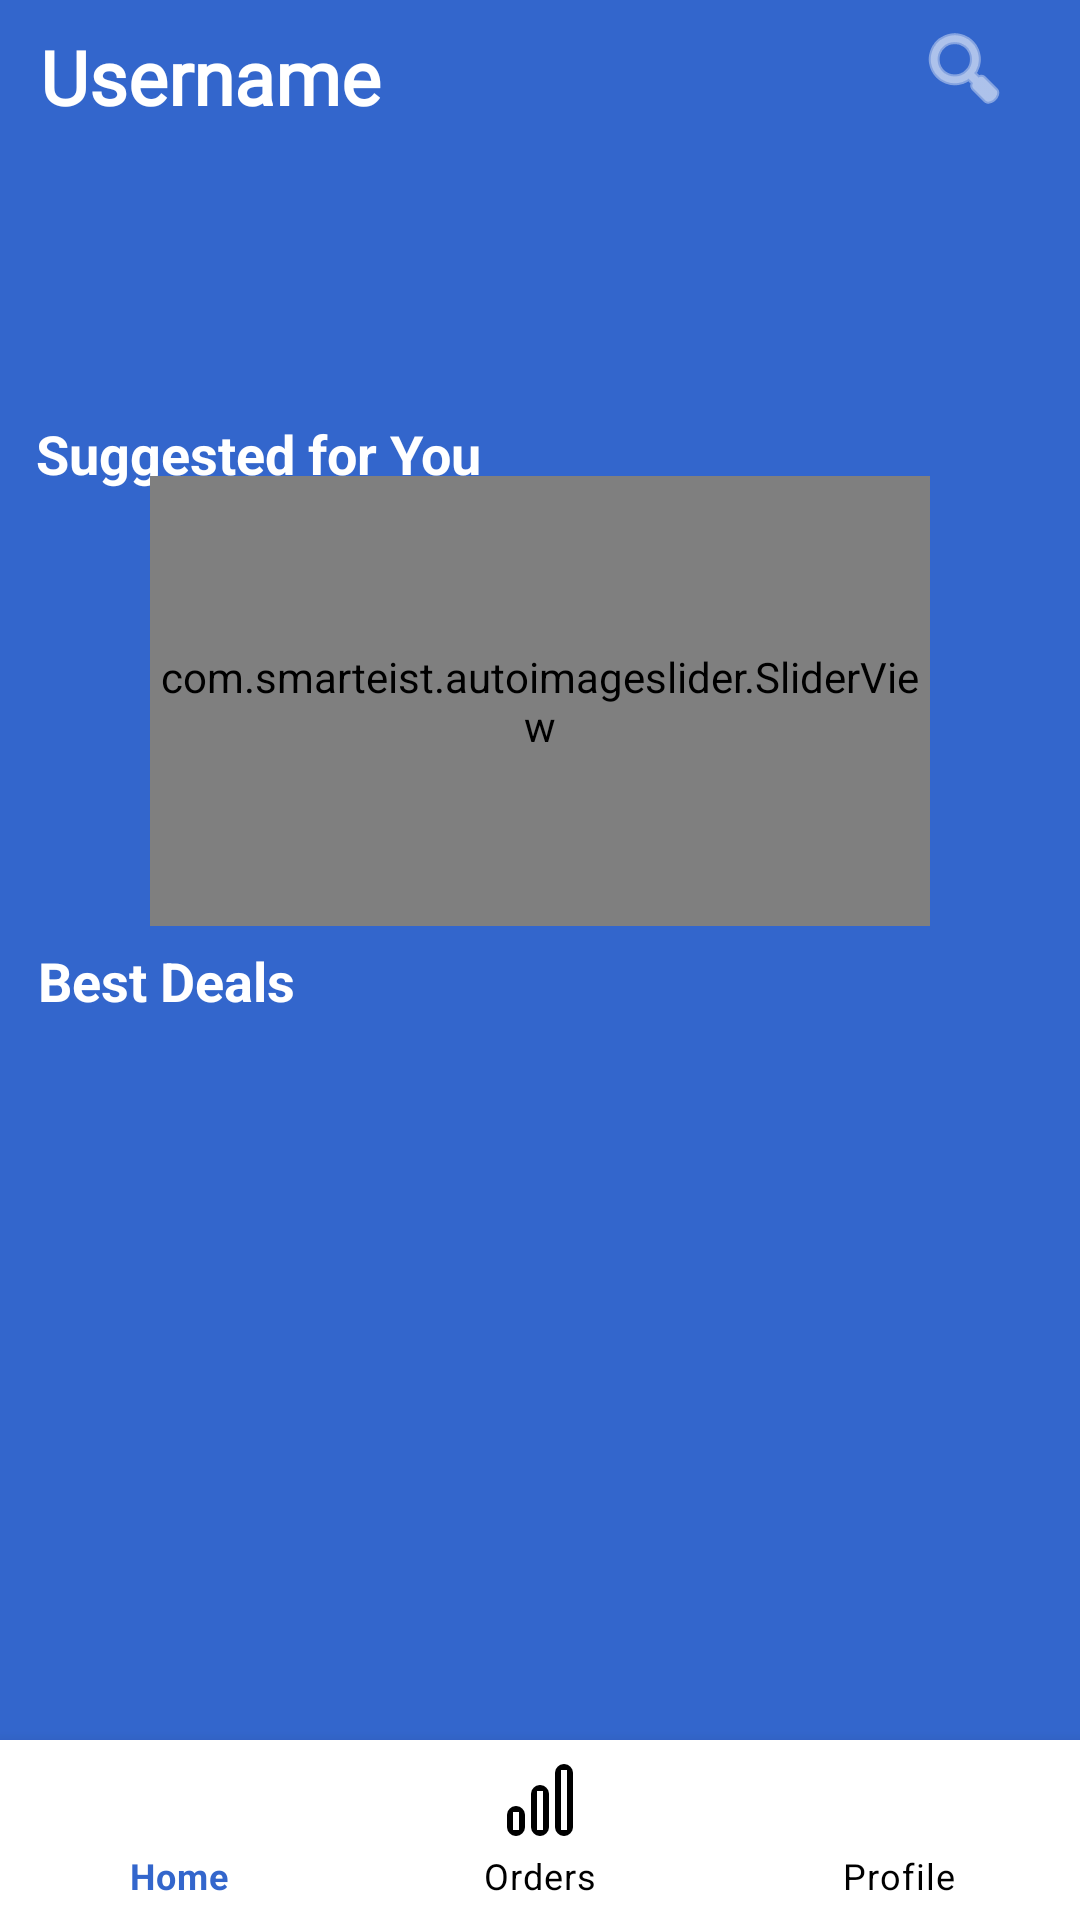

Where to tap for icons on this 1080px x 1920px app screen, as [x,y]:
search: [964,68]
